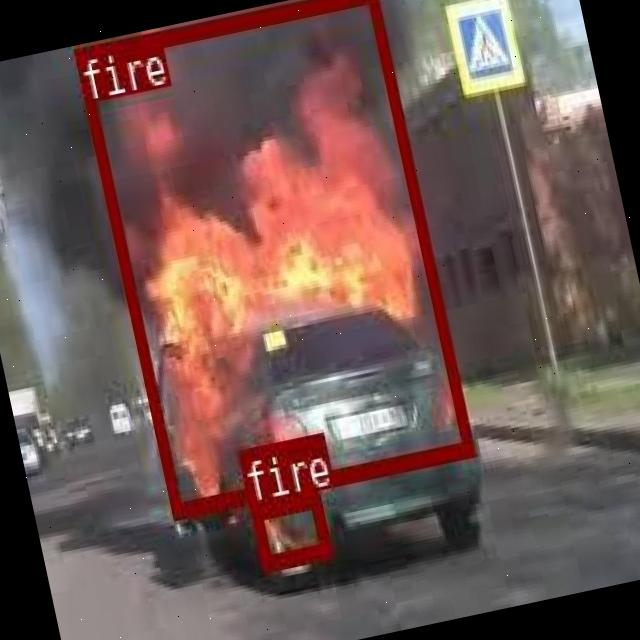fire: (72, 0, 471, 515), (246, 488, 330, 568)
